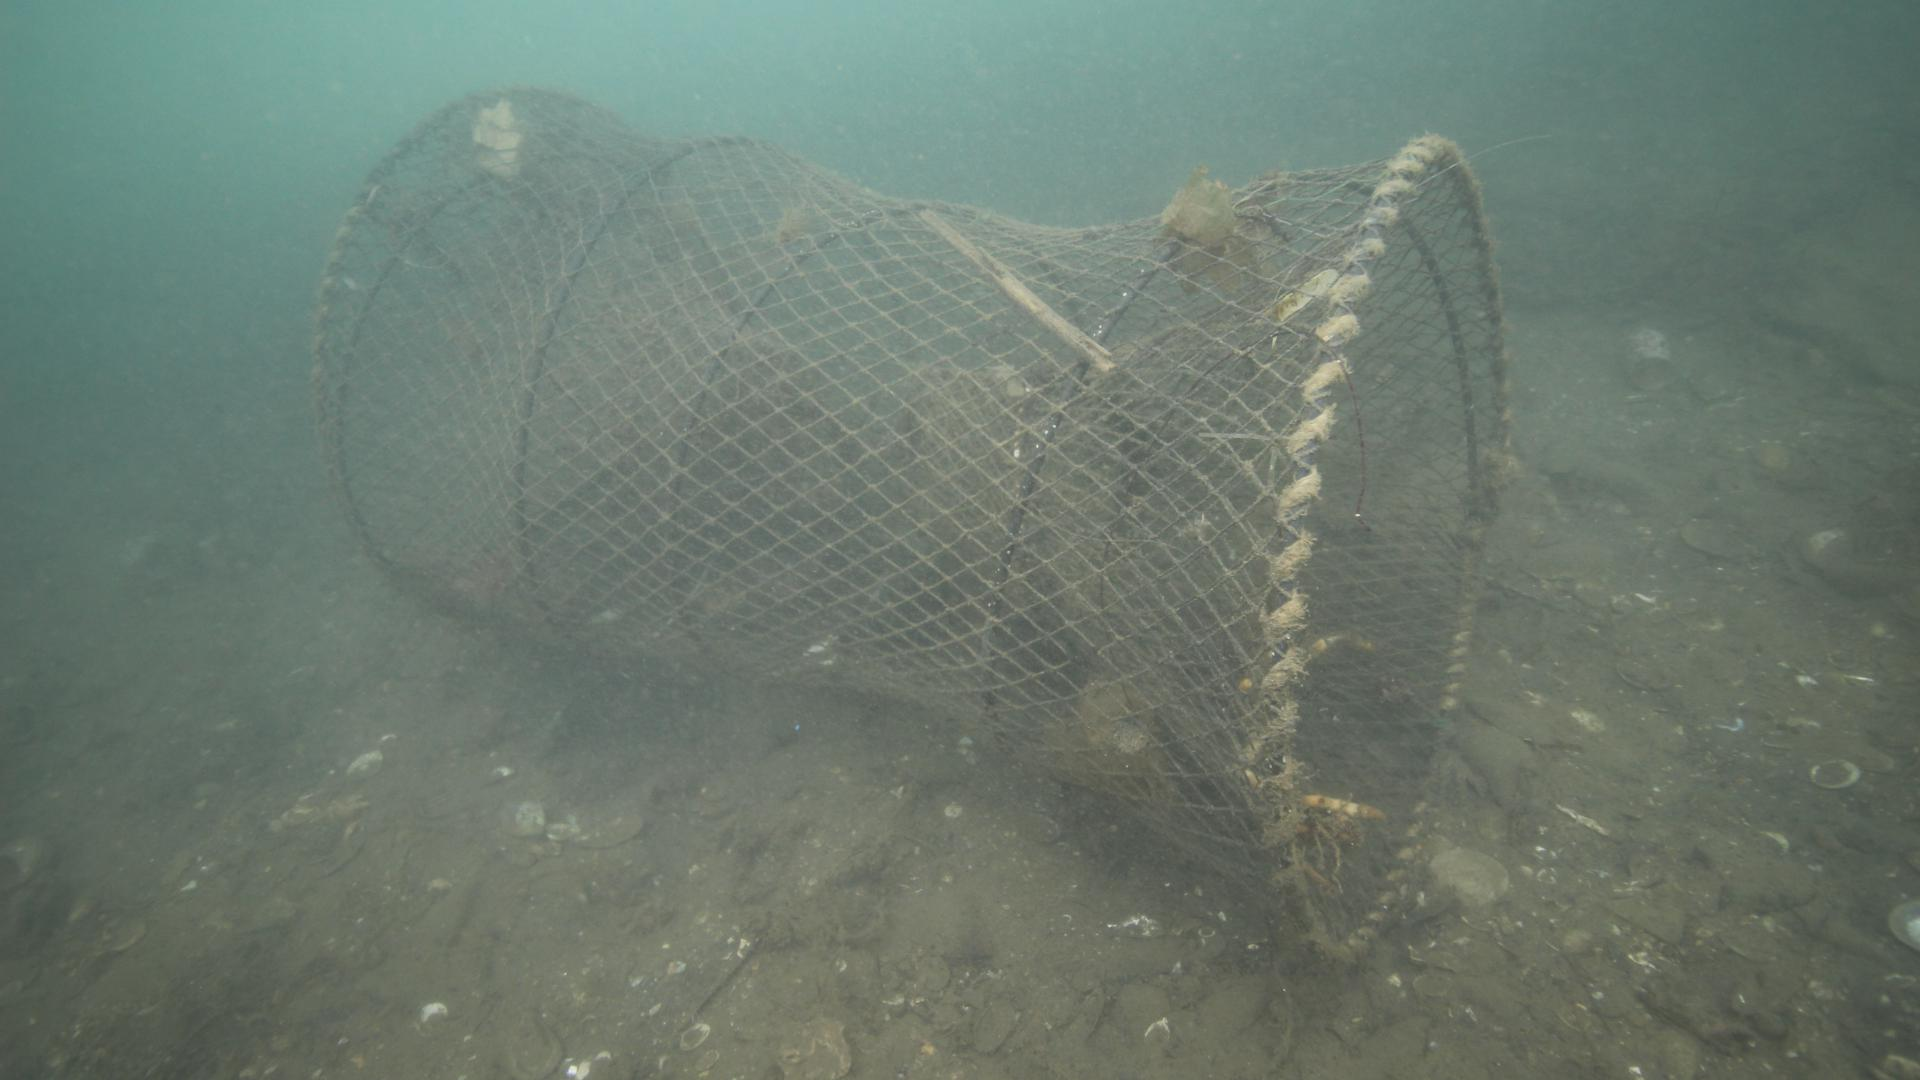spring fish trap: (309, 84, 1509, 971)
